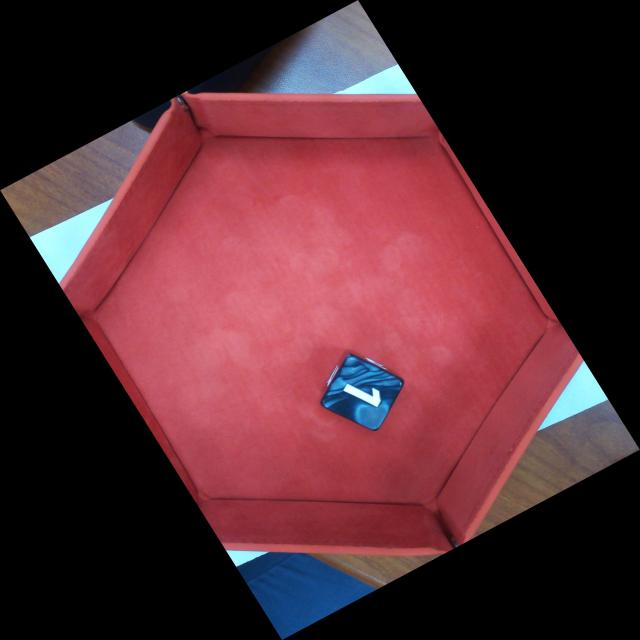dice: (320, 354, 406, 431)
